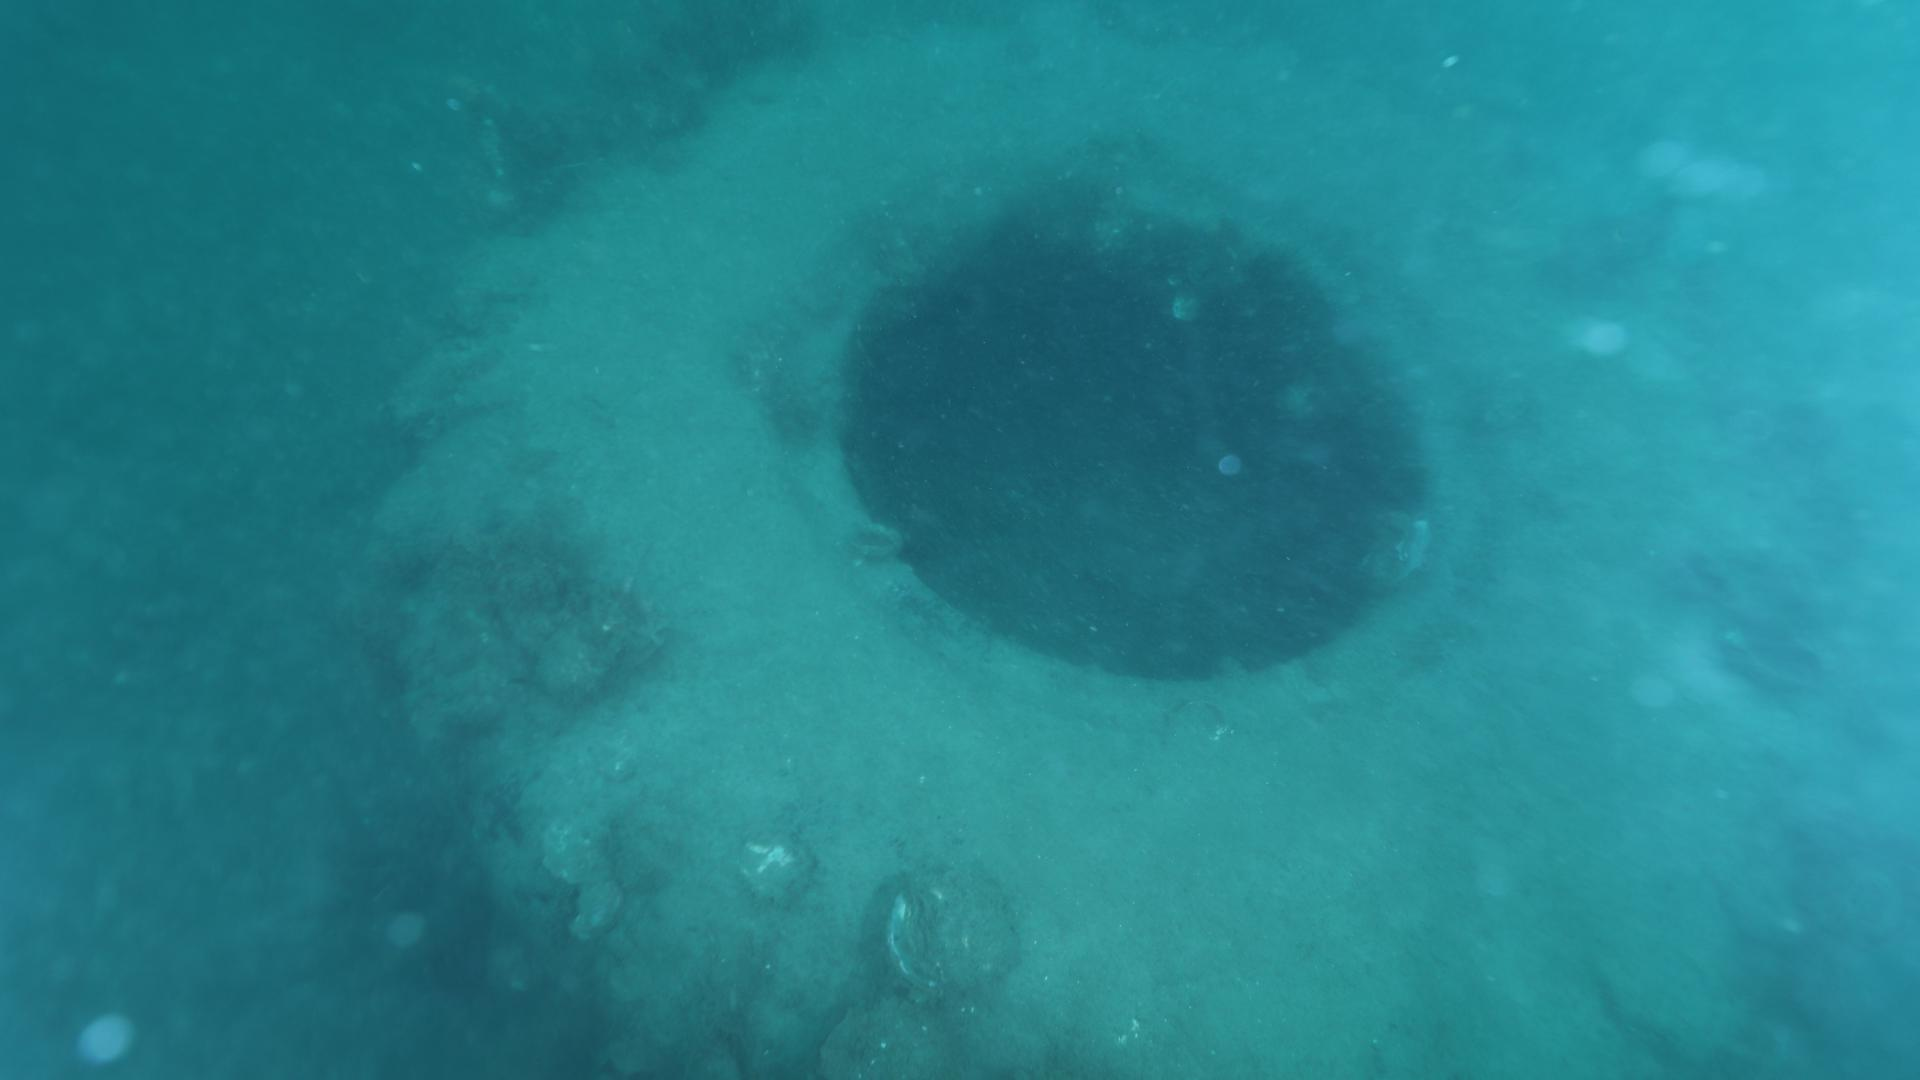tire: (371, 0, 1873, 1080)
